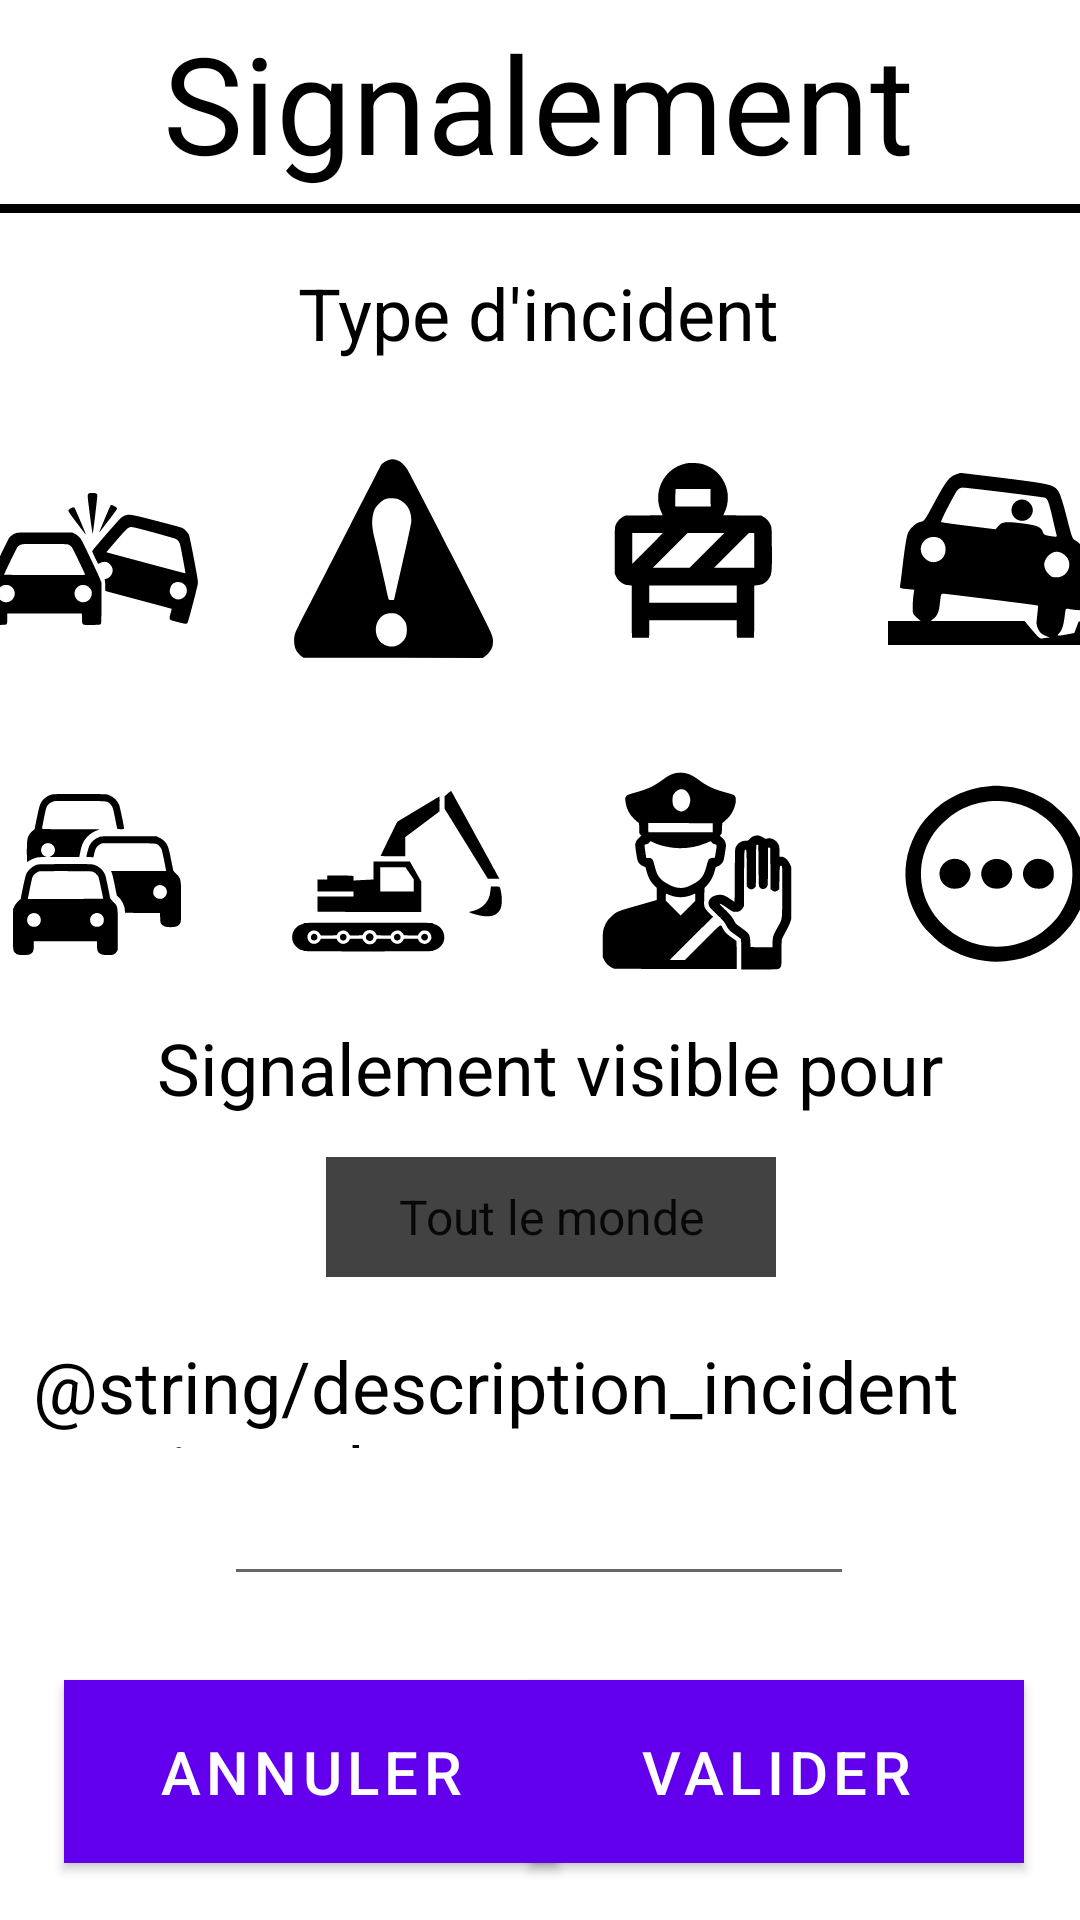

Named icons in this screenshot (1080 x 1920) and their bounding boxes, {"left": x1, "top": y1, "right": x2, "bottom": y2}:
accident: {"left": 0, "top": 493, "right": 198, "bottom": 625}
danger: {"left": 294, "top": 459, "right": 493, "bottom": 658}
police: {"left": 602, "top": 772, "right": 792, "bottom": 970}
pothole: {"left": 888, "top": 473, "right": 1080, "bottom": 645}
road closed: {"left": 614, "top": 463, "right": 772, "bottom": 638}
traffic jam: {"left": 13, "top": 794, "right": 181, "bottom": 955}
worksite: {"left": 292, "top": 791, "right": 502, "bottom": 952}
